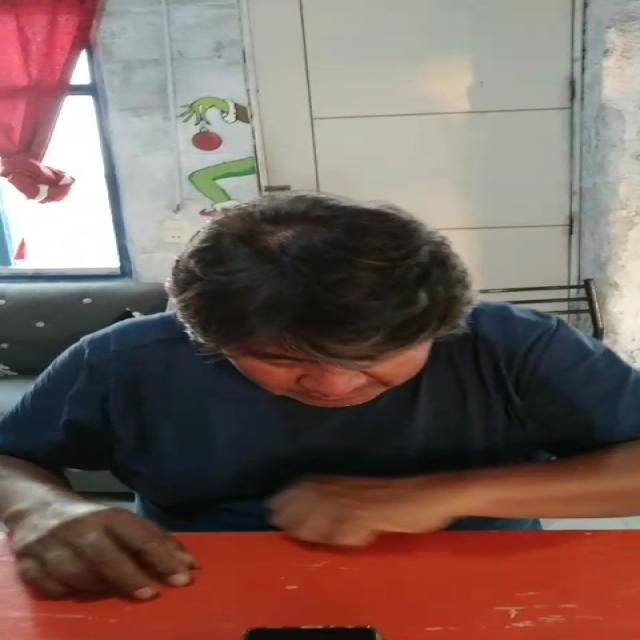9_cabeza_baja: (171, 196, 463, 408)
